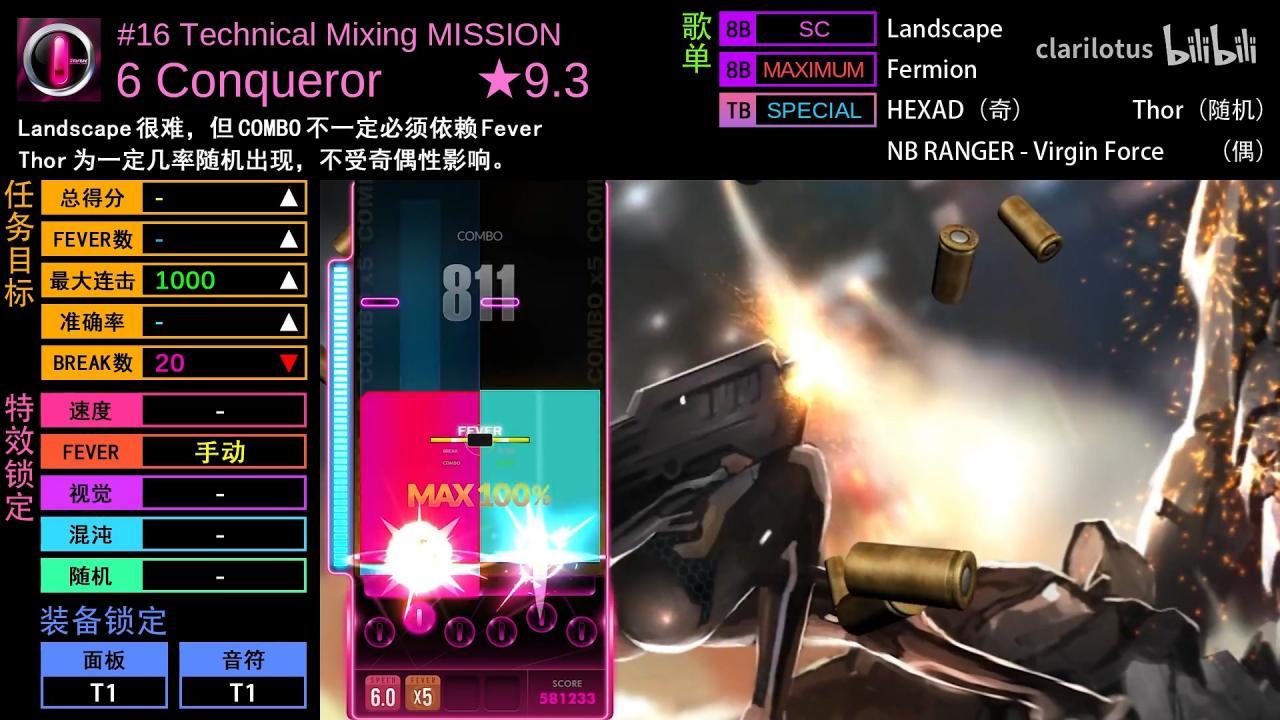note: (360, 296, 400, 309), (480, 296, 520, 308)
side-end: (480, 390, 601, 404)
xend: (360, 391, 480, 405)
